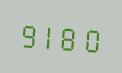eight: (60, 20, 80, 54)
nine: (18, 17, 38, 51)
one: (39, 18, 59, 52)
zero: (81, 21, 101, 55)
